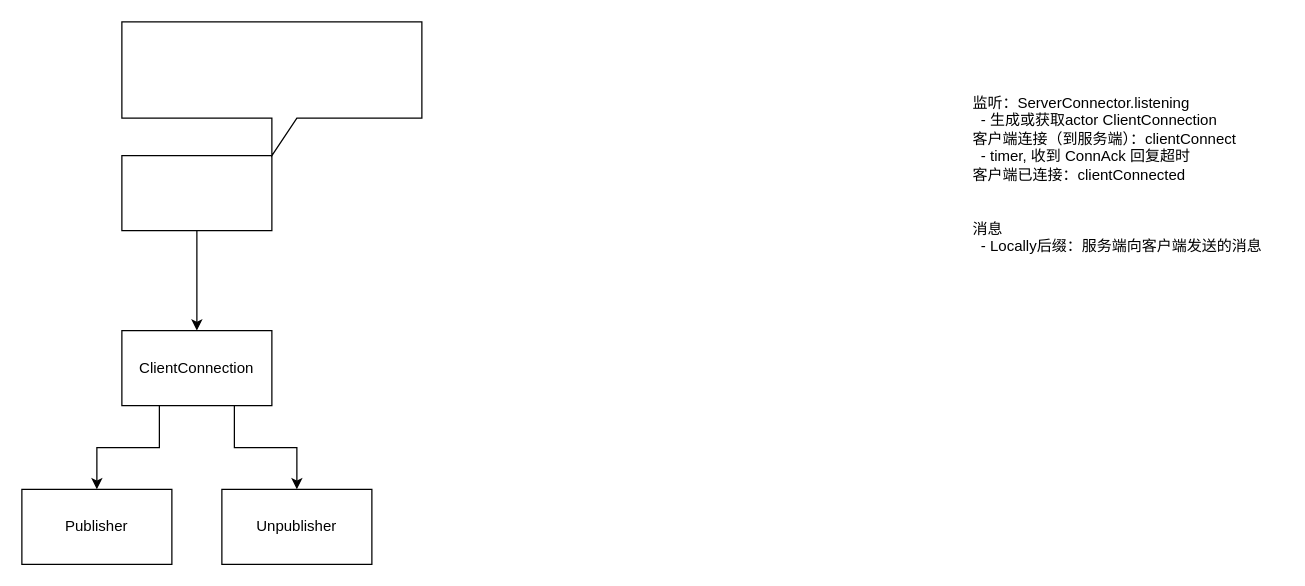
The diagram is 1305 pixels wide and 586 high, and some of its shapes have lost their labels. The shapes that lost their labels are listed below. From the top down, each one's box as (x1, y1, x2, y2) in pixels, then its label:
(121, 21, 422, 156): 服务器连接器是管理MQTT客户机连接的有限状态机。服务器从客户端接收连接并管理其订阅以及接收发布到订阅主题的发布。
(121, 154, 272, 231): ServerConnector
